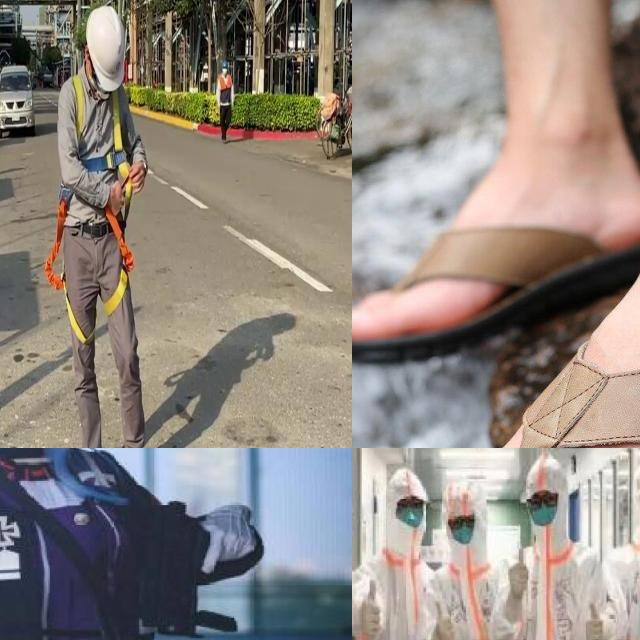Harness: (73, 75, 133, 206), (45, 196, 95, 344), (104, 207, 135, 318)
Sandals: (416, 287, 640, 448)
face_mask: (525, 482, 567, 522), (391, 491, 427, 534), (446, 509, 481, 549)
glasses: (525, 491, 562, 514), (448, 513, 477, 531)
hand_glove: (193, 498, 264, 582), (361, 578, 384, 640), (429, 599, 458, 640), (510, 546, 531, 601), (585, 597, 606, 640)
person: (0, 448, 219, 640), (503, 450, 604, 640), (429, 481, 514, 640), (364, 462, 437, 640)
